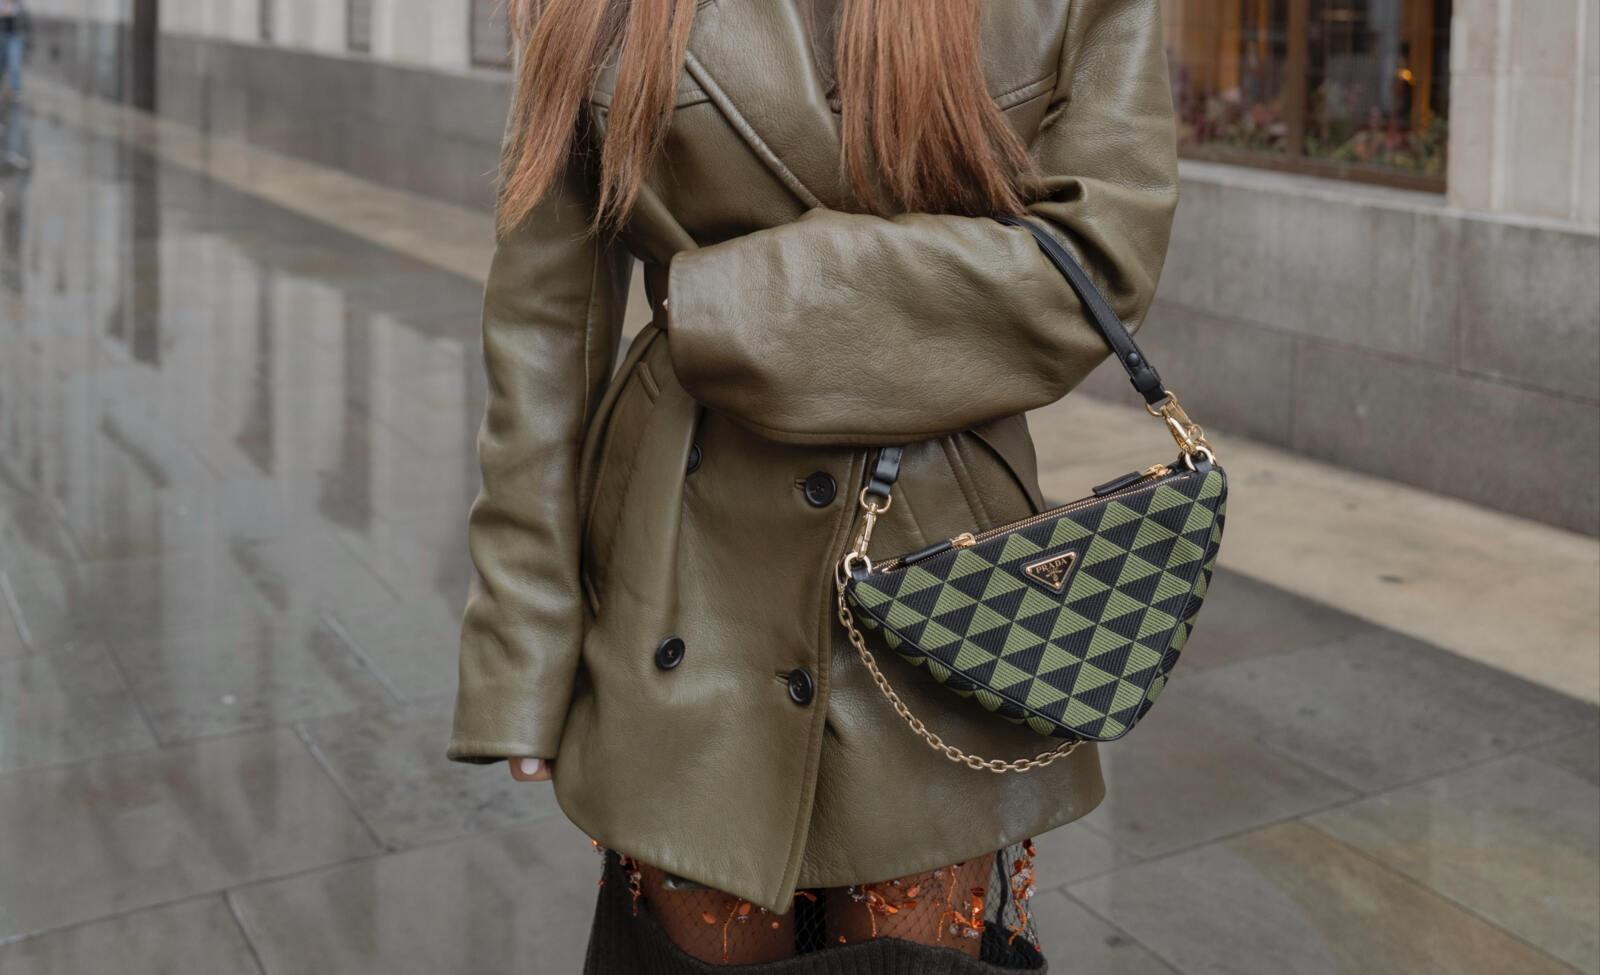PRADA: (1025, 552, 1077, 589)
